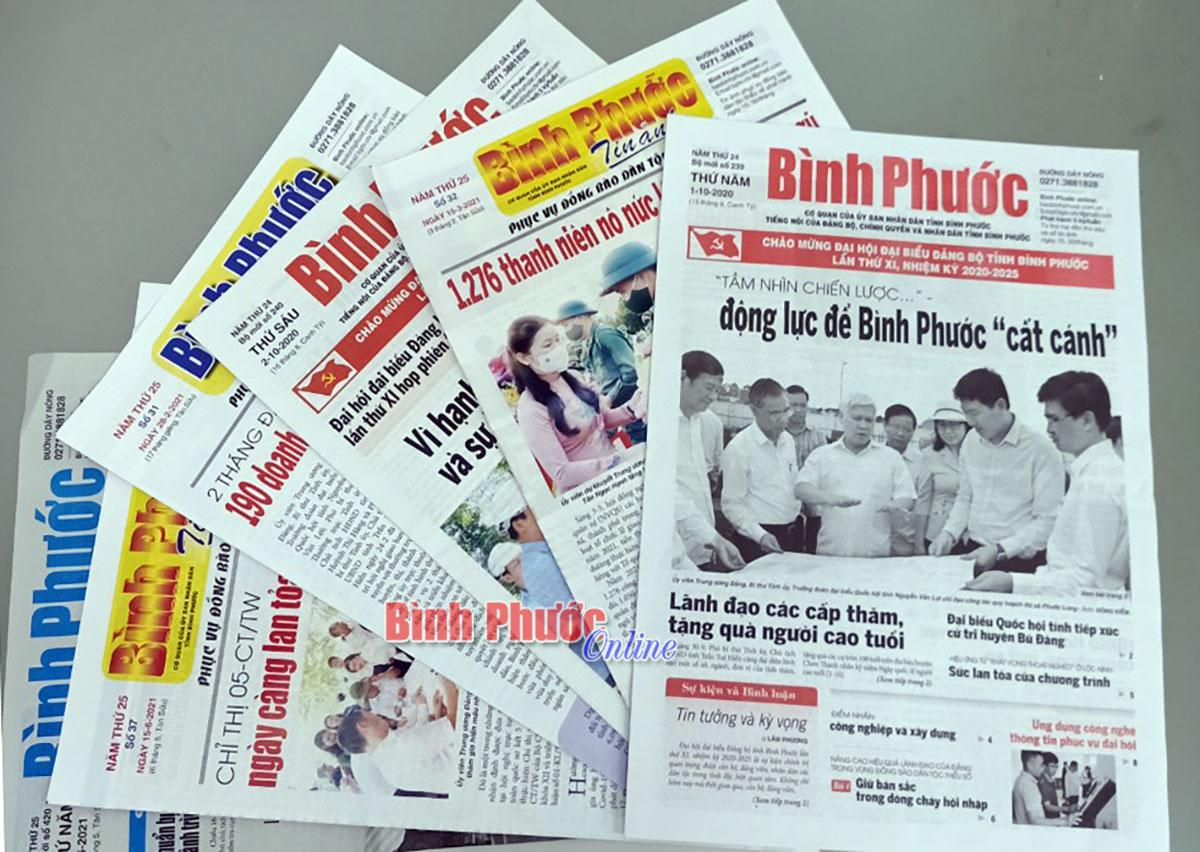paper: (4, 0, 1170, 850)
